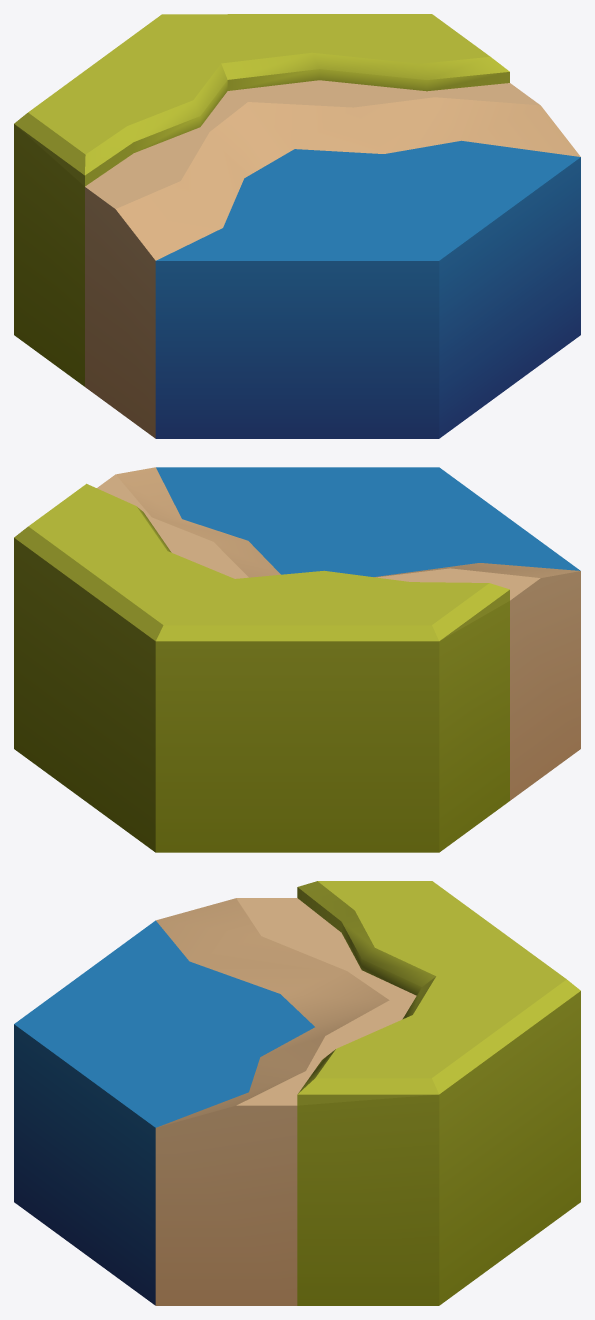
File: hex_coast_B.glb
The picture shows the model from 3 angles, top to bottom: view 1: azimuth 30°, elevation 25°; view 2: azimuth 150°, elevation 25°; view 3: azimuth 270°, elevation 25°; orthographic projection.
Visible parts, largest first — view 1: hex_coast_B; view 2: hex_coast_B; view 3: hex_coast_B.
Boxes of the visible parts, x1,y1,x2,y2 form: hex_coast_B: (14, 14, 580, 438); hex_coast_B: (14, 467, 580, 852); hex_coast_B: (14, 881, 580, 1305).
Bounding box in the file's own units: 2 × 1 × 2.31.
1 material, 1 textured.
